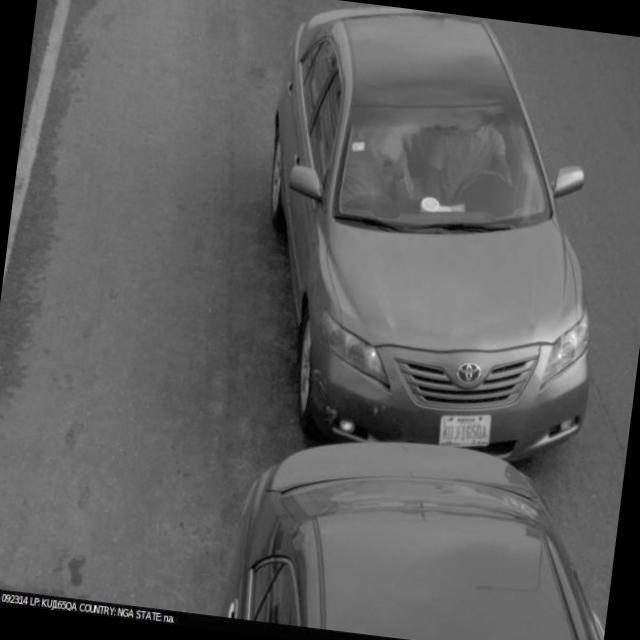person_with_seatbelt: (425, 98, 526, 228)
